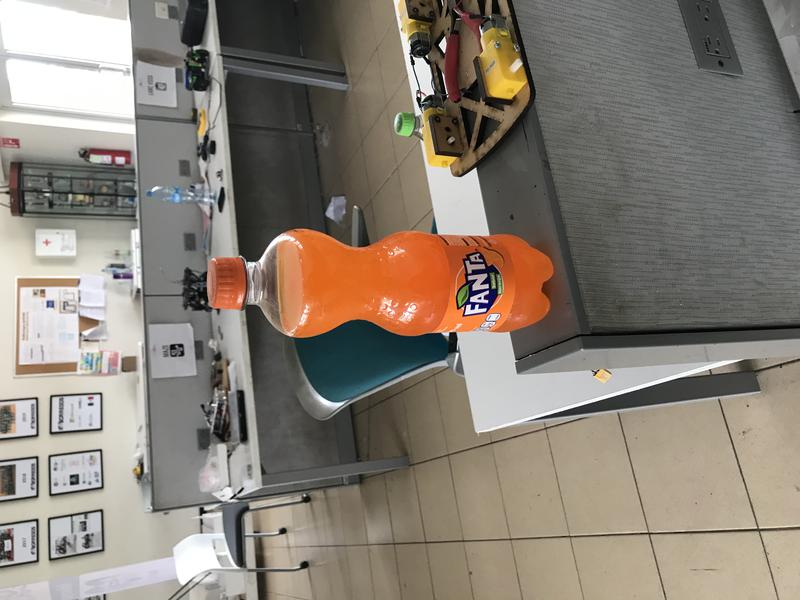fanta: (204, 228, 555, 340)
